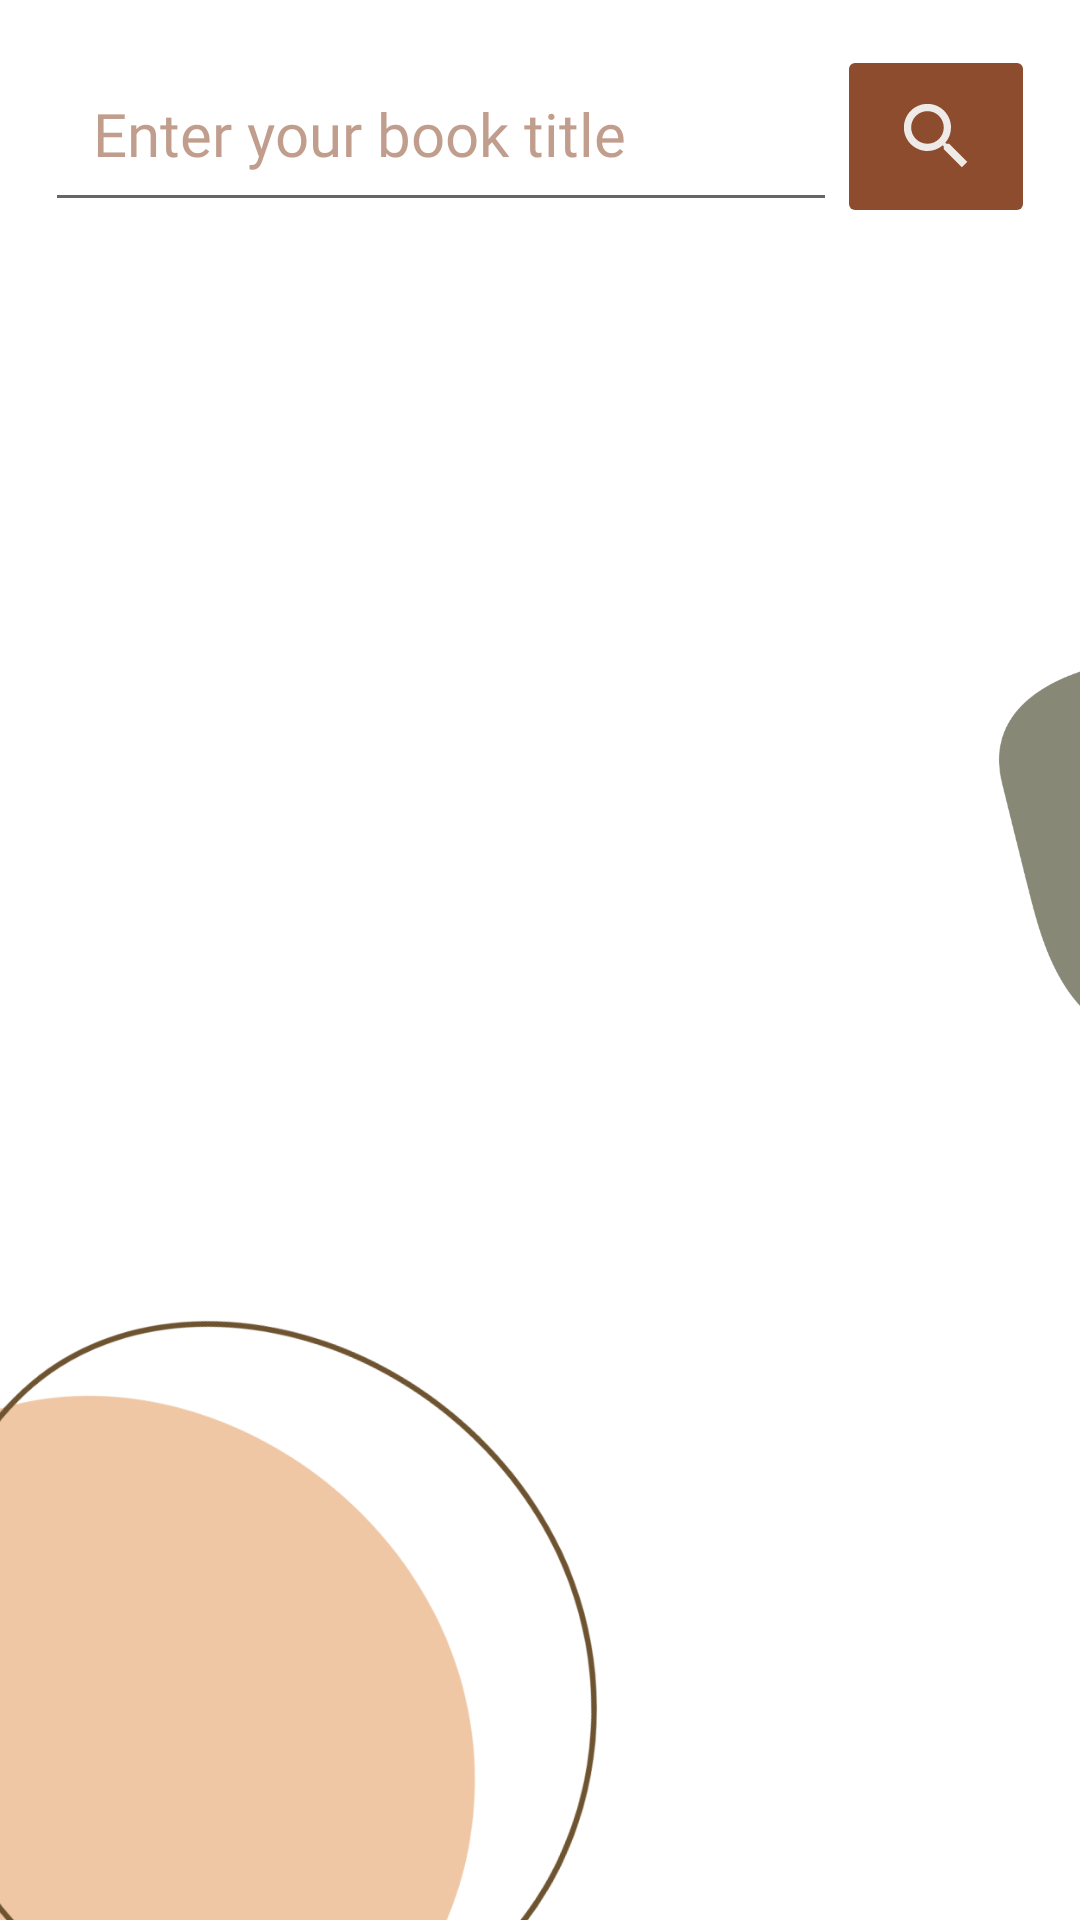

Icons on this 1080*1920 Android screen, each with its box as (x1, y1, x2, y2):
search: (849, 63, 1023, 210)
